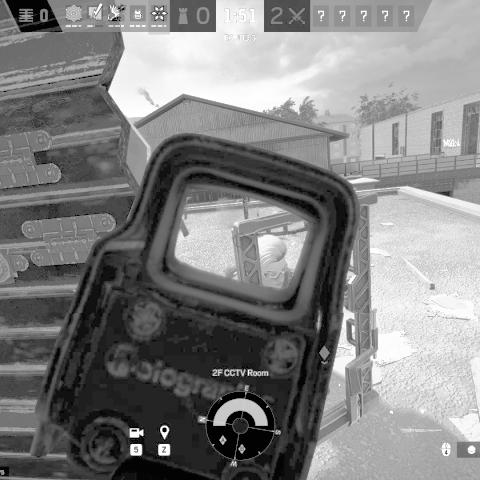Character: (256, 229, 292, 289)
Head: (258, 234, 288, 288)
